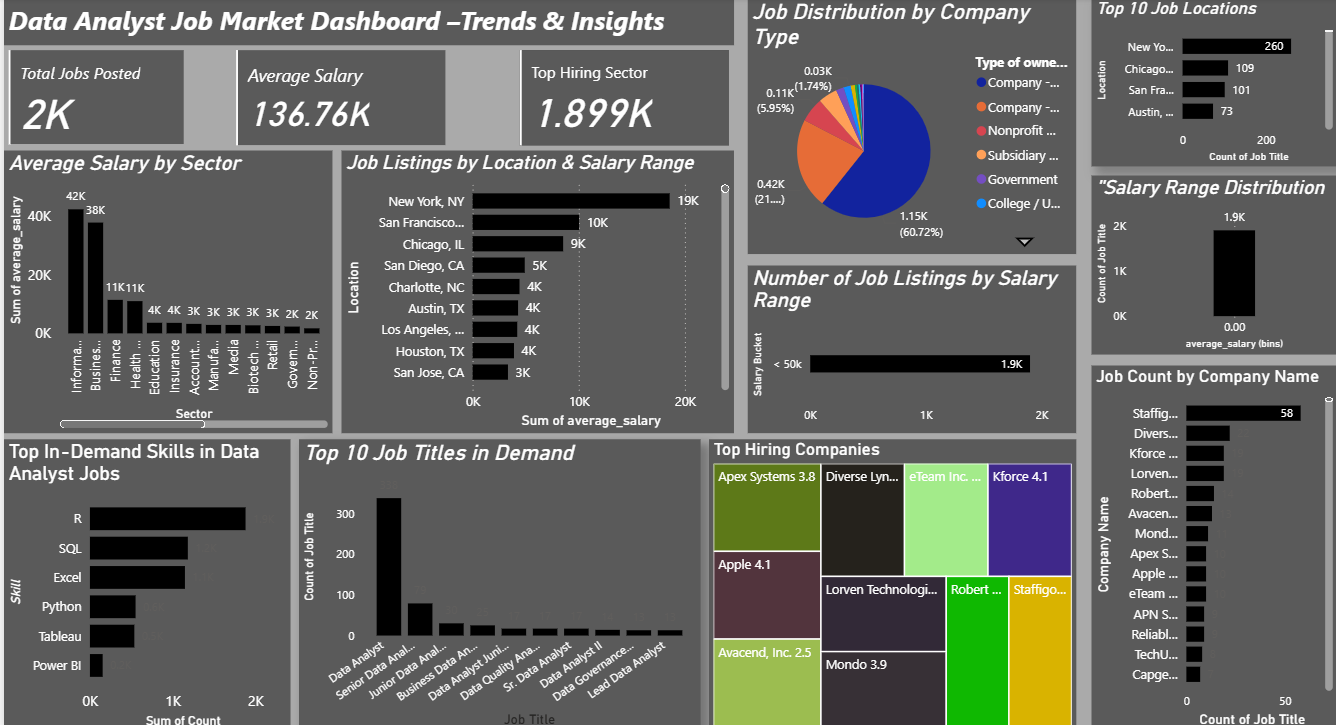

The page's visual inventory and layout, read from the dashboard file:
{"tool":"powerbi","page":{"name":"Page 1","canvas":[1400,770],"ordinal":0},"visuals":[{"type":"cardVisual","fields":{"Data":["Sum(Cleaned_DataAnalyst_Jobs.average_salary)"]},"box":[238.8,49.9,230.9,110.2],"z":0},{"type":"textbox","box":[0,0,766.3,49.9],"z":1000},{"type":"cardVisual","fields":{"Data":["Cleaned_DataAnalyst_Jobs.Total Jobs"]},"box":[0,50.3,194.2,109.3],"z":2000},{"type":"cardVisual","fields":{"Data":["CountNonNull(Cleaned_DataAnalyst_Jobs.Sector)"]},"box":[536.7,49.9,229.6,110.2],"z":3000},{"type":"clusteredColumnChart","title":"Top 10 Job Titles in Demand","fields":{"Category":["Cleaned_DataAnalyst_Jobs.Job Title"],"Y":["CountNonNull(Cleaned_DataAnalyst_Jobs.Job Title)"]},"box":[309.7,463.2,421.2,307.1],"z":4000},{"type":"clusteredColumnChart","title":"Average Salary by Sector","fields":{"Y":["Sum(Cleaned_DataAnalyst_Jobs.average_salary)"],"Category":["Cleaned_DataAnalyst_Jobs.Sector"]},"box":[0,160.1,345.1,296.6],"z":5000},{"type":"barChart","title":"Number of Job Listings by Salary Range","fields":{"Y":["CountNonNull(Cleaned_DataAnalyst_Jobs.Job Title)"],"Category":["Cleaned_DataAnalyst_Jobs.Salary Bucket"]},"box":[780.8,280.8,345.1,175.8],"z":6000},{"type":"clusteredBarChart","title":"Job Count  by Company Name","fields":{"Y":["CountNonNull(Cleaned_DataAnalyst_Jobs.Job Title)"],"Category":["Cleaned_DataAnalyst_Jobs.Company Name"]},"box":[1141.6,385.8,258.5,384.5],"z":7000},{"type":"barChart","title":"Top 10 Job Locations","fields":{"Category":["Cleaned_DataAnalyst_Jobs.Location"],"Y":["CountNonNull(Cleaned_DataAnalyst_Jobs.Job Title)"]},"box":[1141.6,0,258.5,177.1],"z":8000},{"type":"pieChart","title":"Job Distribution by Company Type","fields":{"Category":["Cleaned_DataAnalyst_Jobs.Type of ownership"],"Y":["CountNonNull(Cleaned_DataAnalyst_Jobs.Job Title)"]},"box":[780.8,0,345.1,269],"z":9000},{"type":"clusteredBarChart","title":"Top In-Demand Skills in Data Analyst Jobs","fields":{"Category":["TopSkills.Skill"],"Y":["Sum(TopSkills.Count)"]},"box":[0,463.2,300.5,307.1],"z":10000},{"type":"clusteredColumnChart","title":"\"Salary Range Distribution","fields":{"Category":["Cleaned_DataAnalyst_Jobs.average_salary (bins)"],"Y":["CountNonNull(Cleaned_DataAnalyst_Jobs.Job Title)"]},"box":[1141.6,186.3,258.5,187.6],"z":11000},{"type":"treemap","title":"Top Hiring Companies","fields":{"Group":["Cleaned_DataAnalyst_Jobs.Company Name"],"Values":["Count(Cleaned_DataAnalyst_Jobs.Company Name)"]},"box":[740.1,463.2,385.8,307.1],"z":12000},{"type":"clusteredBarChart","title":"Job Listings by Location & Salary Range","fields":{"Category":["Cleaned_DataAnalyst_Jobs.Location"],"Y":["Sum(Cleaned_DataAnalyst_Jobs.average_salary)"]},"box":[354.3,160.1,412,296.6],"z":13000}]}

Visuals, with their boxes in screenshot pixels (x1, y1, x2, y2), scaled from the page's 1400x770 canvas onto the 1336x725 screenshot:
cardVisual - Sum(Cleaned_DataAnalyst_Jobs.average_salary): detection(228, 47, 448, 151)
textbox: detection(0, 0, 731, 47)
cardVisual - Cleaned_DataAnalyst_Jobs.Total Jobs: detection(0, 47, 185, 150)
cardVisual - CountNonNull(Cleaned_DataAnalyst_Jobs.Sector): detection(512, 47, 731, 151)
"Top 10 Job Titles in Demand" clusteredColumnChart: detection(296, 436, 697, 724)
"Average Salary by Sector" clusteredColumnChart: detection(0, 151, 329, 430)
"Number of Job Listings by Salary Range" barChart: detection(745, 264, 1074, 430)
"Job Count  by Company Name" clusteredBarChart: detection(1089, 363, 1335, 724)
"Top 10 Job Locations" barChart: detection(1089, 0, 1335, 167)
"Job Distribution by Company Type" pieChart: detection(745, 0, 1074, 253)
"Top In-Demand Skills in Data Analyst Jobs" clusteredBarChart: detection(0, 436, 287, 724)
""Salary Range Distribution" clusteredColumnChart: detection(1089, 175, 1335, 352)
"Top Hiring Companies" treemap: detection(706, 436, 1074, 724)
"Job Listings by Location & Salary Range" clusteredBarChart: detection(338, 151, 731, 430)
